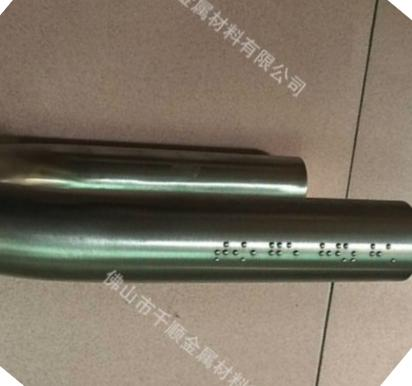Braille: (267, 241, 284, 265), (214, 240, 230, 264), (233, 240, 248, 264), (250, 240, 265, 264), (351, 242, 366, 266), (286, 241, 300, 265), (335, 242, 349, 266), (369, 242, 383, 266), (385, 242, 398, 267), (319, 241, 332, 265)
